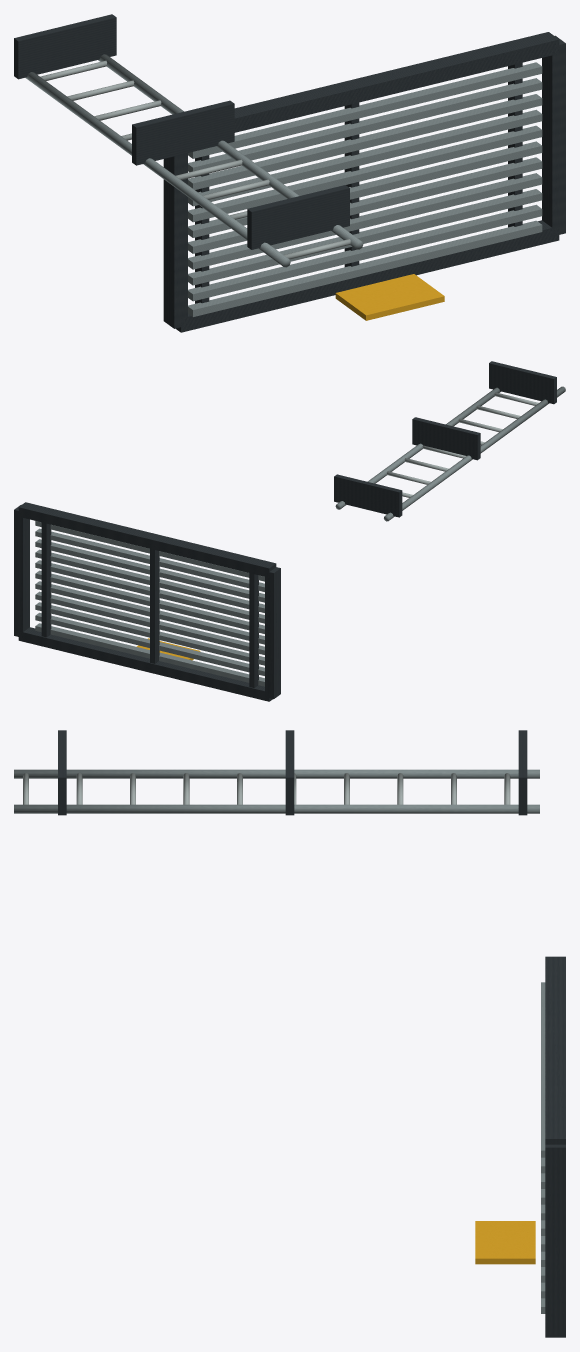
The model's file is PZ_WWT_06_Access_Ladder_And_Grate.glb.
3 renders of one model, top to bottom at view 1: azimuth 30°, elevation 25°; view 2: azimuth 150°, elevation 25°; view 3: azimuth 270°, elevation 25°, orthographic. The views are drawn at different scales.
Visible parts, largest first — view 1: GRATE_Frame_Right, GRATE_Frame_Left, GRATE_MovableHinged_Bar_00, GRATE_MovableHinged_Bar_01, GRATE_MovableHinged_Bar_08, GRATE_MovableHinged_Bar_09, GRATE_MovableHinged_Bar_06, GRATE_MovableHinged_Bar_10, ACCESS_Ladder_Mount_2.92, ACCESS_Ladder_Mount_0.25, ACCESS_Ladder_Mount_1.6, GRATE_Frame_End_2.5 (+18 smaller); view 2: GRATE_Frame_Right, GRATE_Frame_Left, GRATE_Frame_End_0, ACCESS_Ladder_Mount_0.25, GRATE_Frame_End_2.5, ACCESS_Ladder_Mount_2.92, GRATE_MovableHinged_Bar_02, GRATE_MovableHinged_Bar_03, GRATE_MovableHinged_Bar_04, GRATE_MovableHinged_Bar_06, GRATE_MovableHinged_Bar_07, GRATE_MovableHinged_Bar_09 (+11 smaller); view 3: ACCESS_Standalone_Ladder_Rail_+1, ACCESS_Standalone_Ladder_Rail_-1, GRATE_Frame_End_2.5, GRATE_Frame_Right, ACCESS_Caution_Plate, GRATE_MovableHinged_Bar_10, ACCESS_Ladder_Mount_0.25, ACCESS_Ladder_Mount_1.6, ACCESS_Ladder_Mount_2.92.
Part boxes in pixels (x1,y1,x2,y2): GRATE_Frame_Right: (234, 32, 559, 132); GRATE_Frame_Left: (176, 220, 559, 332); GRATE_MovableHinged_Bar_00: (188, 220, 542, 316); GRATE_MovableHinged_Bar_01: (188, 204, 542, 301); GRATE_MovableHinged_Bar_08: (188, 94, 542, 189); GRATE_MovableHinged_Bar_09: (188, 78, 542, 172); GRATE_MovableHinged_Bar_06: (188, 125, 542, 222); GRATE_MovableHinged_Bar_10: (188, 62, 542, 158); ACCESS_Ladder_Mount_2.92: (247, 185, 349, 249); ACCESS_Ladder_Mount_0.25: (14, 14, 116, 79); ACCESS_Ladder_Mount_1.6: (132, 100, 234, 165); GRATE_Frame_End_2.5: (542, 35, 565, 236); GRATE_Frame_Right: (18, 502, 276, 577); GRATE_Frame_Left: (18, 627, 272, 701); GRATE_Frame_End_0: (265, 567, 280, 699); ACCESS_Ladder_Mount_0.25: (334, 474, 402, 517); GRATE_Frame_End_2.5: (14, 505, 29, 637); ACCESS_Ladder_Mount_2.92: (489, 361, 556, 404); GRATE_MovableHinged_Bar_02: (35, 602, 264, 665); GRATE_MovableHinged_Bar_03: (35, 591, 264, 654); GRATE_MovableHinged_Bar_04: (35, 581, 264, 644); GRATE_MovableHinged_Bar_06: (35, 560, 264, 623); GRATE_MovableHinged_Bar_07: (35, 549, 264, 612); GRATE_MovableHinged_Bar_09: (35, 528, 264, 591); ACCESS_Standalone_Ladder_Rail_+1: (14, 804, 539, 813); ACCESS_Standalone_Ladder_Rail_-1: (14, 769, 539, 778); GRATE_Frame_End_2.5: (545, 1144, 565, 1335); GRATE_Frame_Right: (545, 956, 565, 1144); ACCESS_Caution_Plate: (475, 1221, 535, 1264); GRATE_MovableHinged_Bar_10: (541, 982, 545, 1157); ACCESS_Ladder_Mount_0.25: (518, 730, 527, 815); ACCESS_Ladder_Mount_1.6: (285, 730, 294, 815); ACCESS_Ladder_Mount_2.92: (58, 730, 66, 815).
Size of the model in its own units: 3.71 by 2.17 by 3.2.
Materials: 1 (1 with a texture image).
